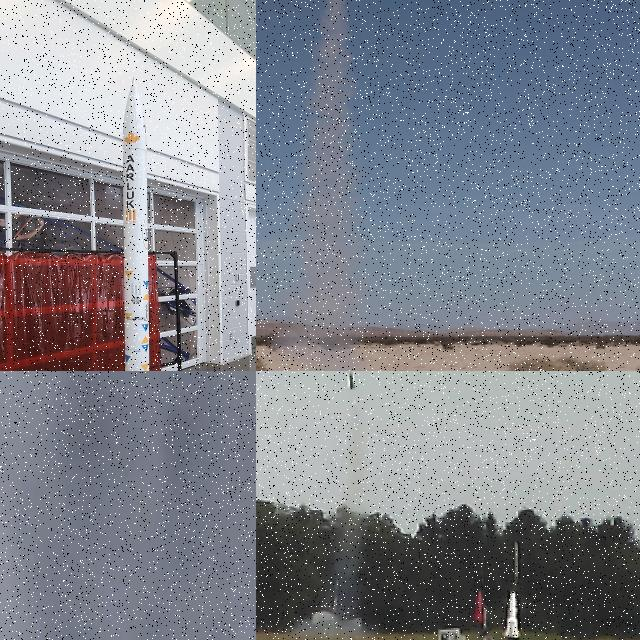Rocket: (123, 76, 150, 371), (502, 590, 521, 639), (472, 590, 485, 622), (346, 371, 356, 389)
